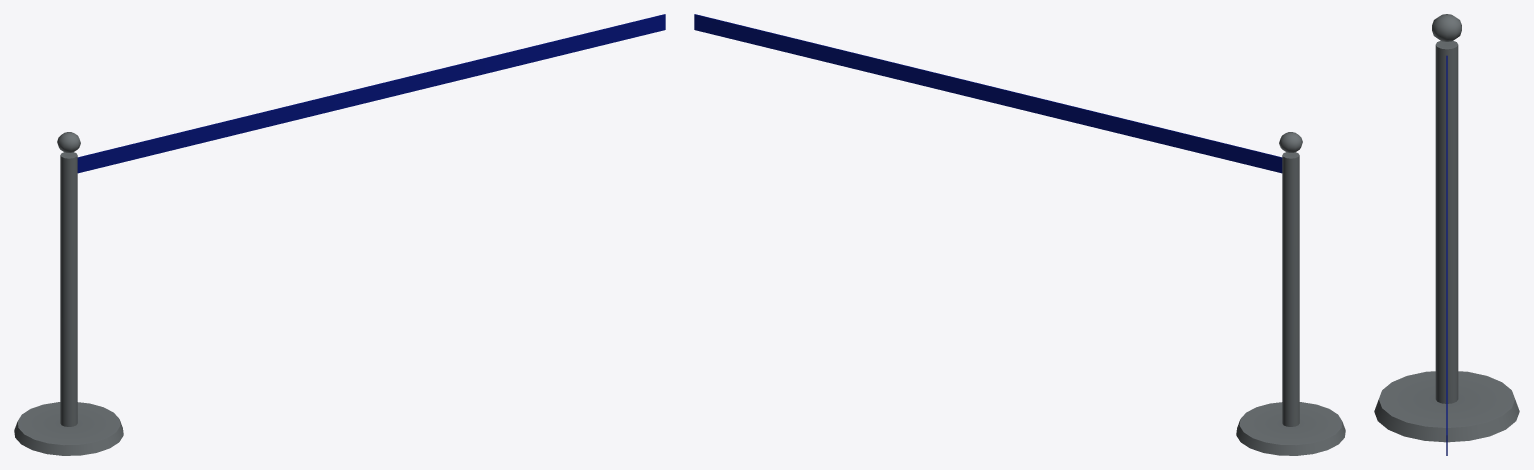
The model's file is ap-stanchion.glb.
3 views of the same model, side by side, from view 1: azimuth 30°, elevation 25°; view 2: azimuth 150°, elevation 25°; view 3: azimuth 270°, elevation 25° (orthographic). The views are drawn at different scales.
Visible parts, largest first — view 1: belt__rubber, post__chrome; view 2: belt__rubber, post__chrome; view 3: post__chrome, belt__rubber.
Boxes of the visible parts, x1,y1,x2,y2 form: belt__rubber: (77,14,665,173); post__chrome: (14,132,123,455); belt__rubber: (694,14,1282,173); post__chrome: (1236,132,1345,455); post__chrome: (1374,14,1519,442); belt__rubber: (1446,55,1447,455).
Bounding box in the file's own units: 2.16 × 0.96 × 0.32.
